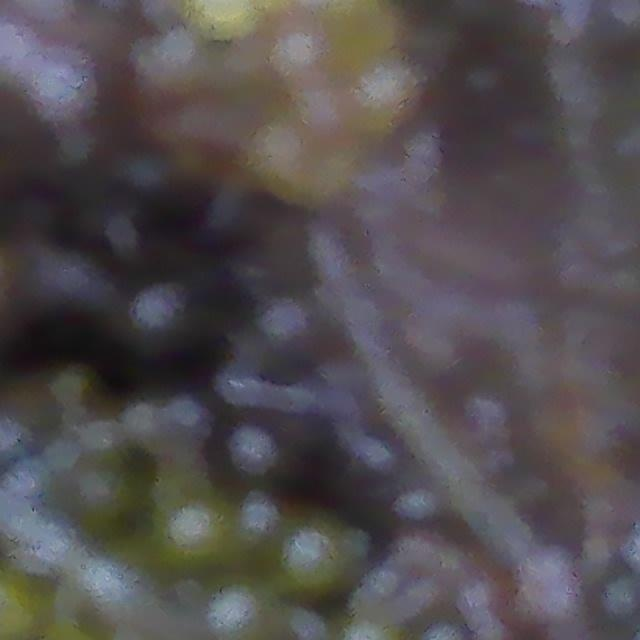SeaGrape: (281, 524, 341, 591), (300, 520, 353, 593), (211, 579, 274, 640), (172, 500, 230, 565), (228, 425, 275, 472)
